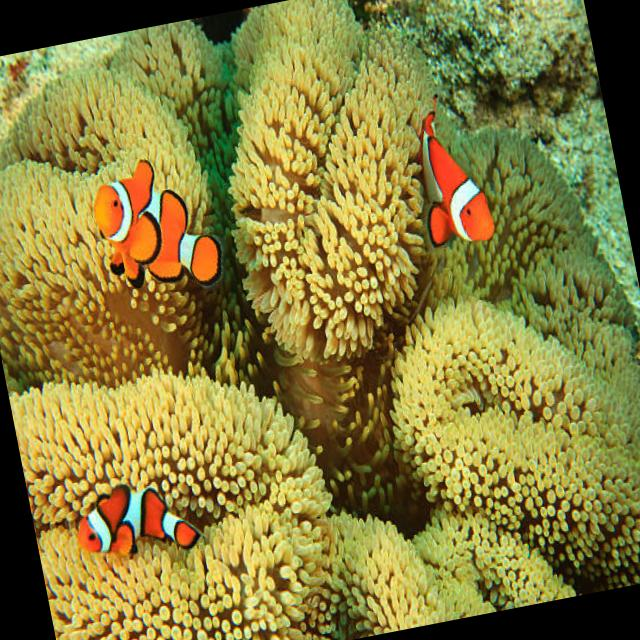ClownFish: (81, 150, 227, 308), (408, 100, 498, 252), (71, 473, 205, 572), (165, 554, 172, 569)
